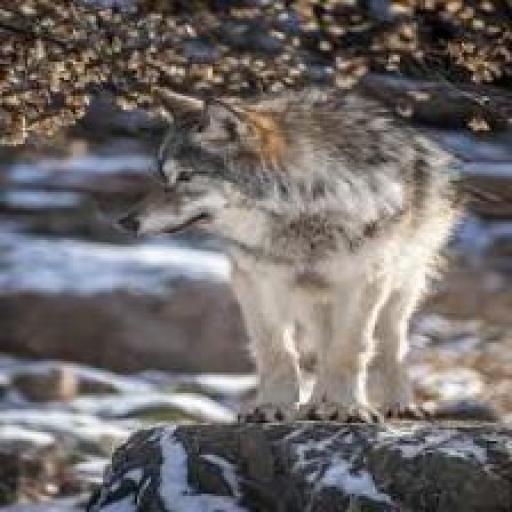wolf: (137, 62, 492, 435)
